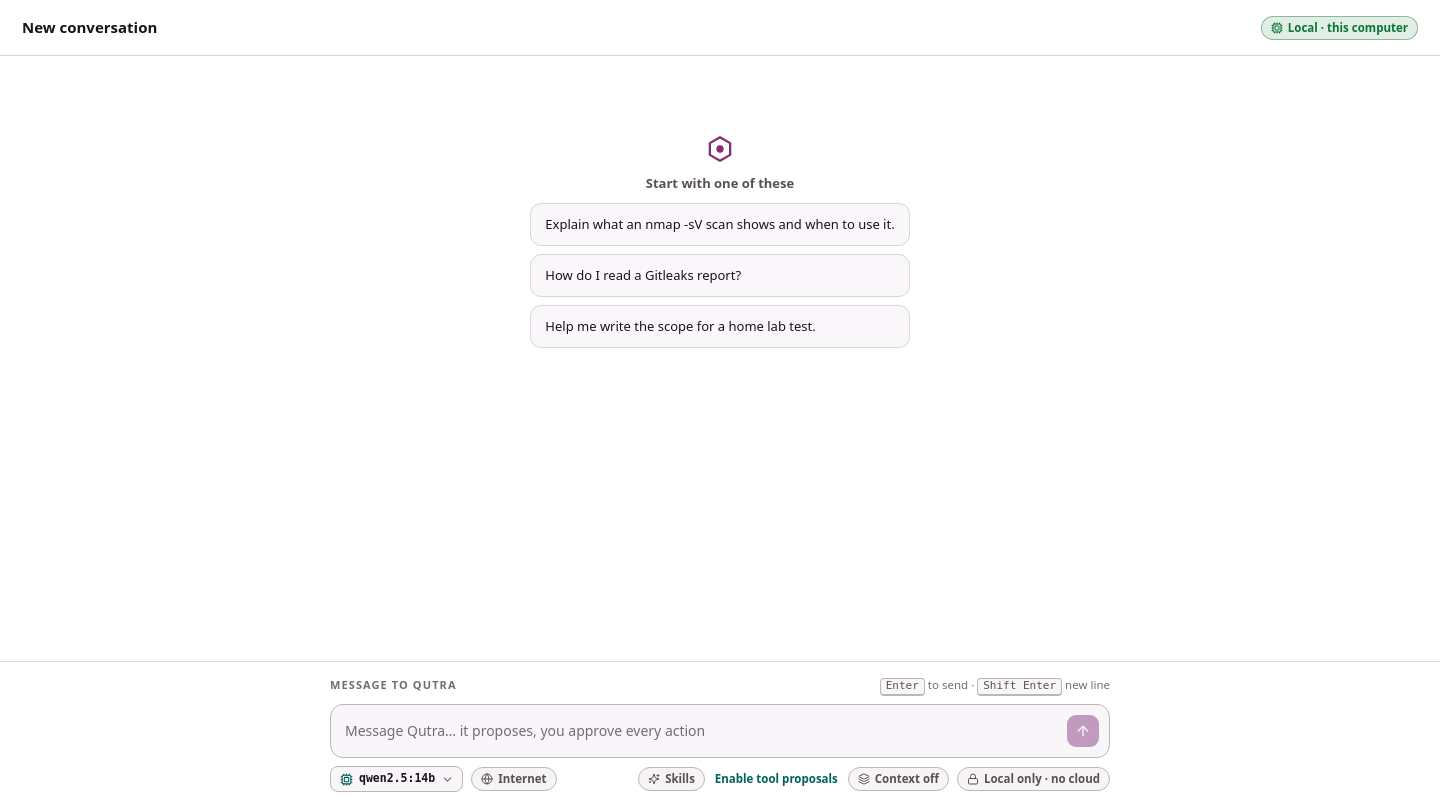
Scenario: a preserved partial answer stays distinguishable from a successful one › shows no error banner at all when the turn simply completes
Type "hi" into the text box labelled "Message to Qutra" at (702, 732), box x1=345 y1=718 x2=1059 y2=747
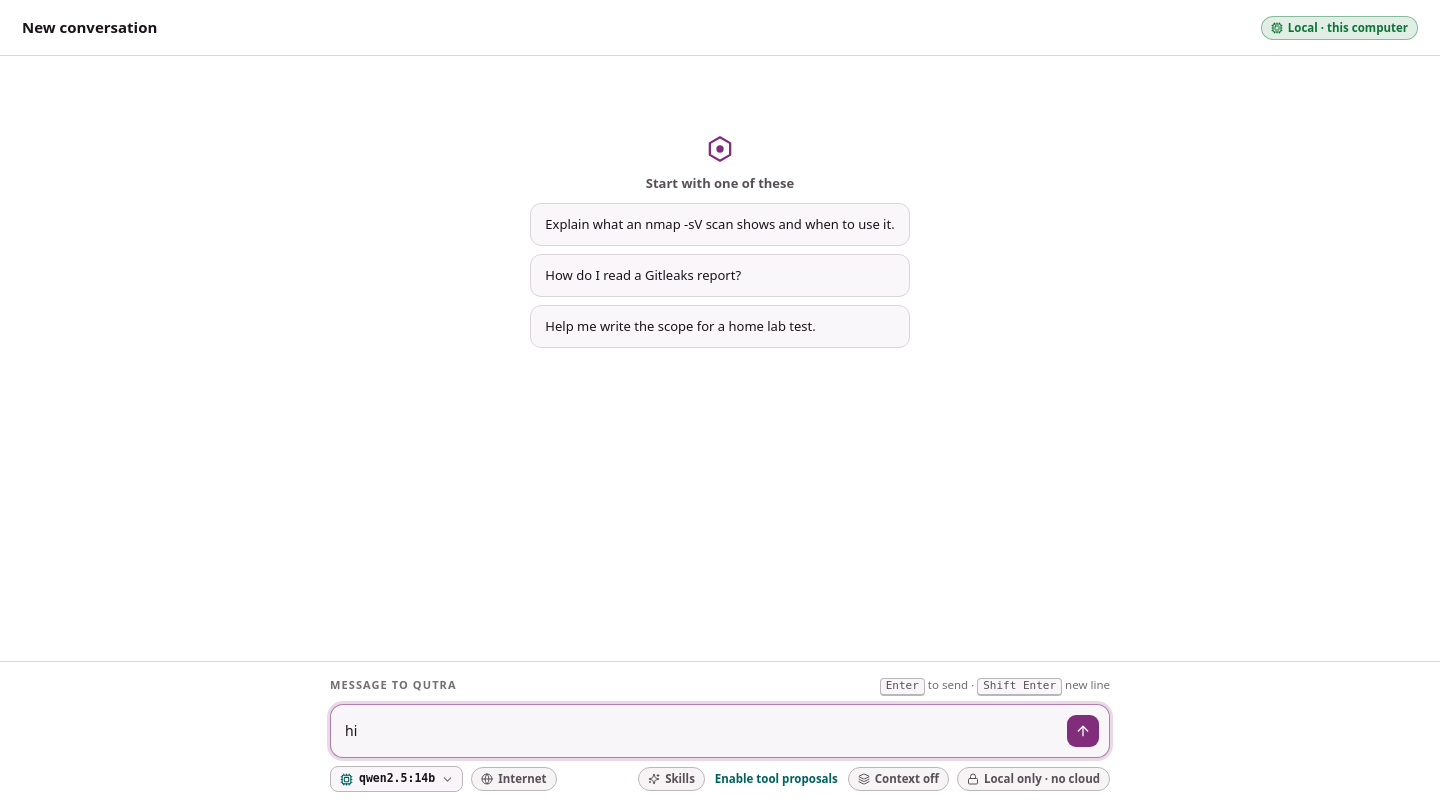
Click the button named "Send" at (1083, 731), box x1=1067 y1=715 x2=1099 y2=747
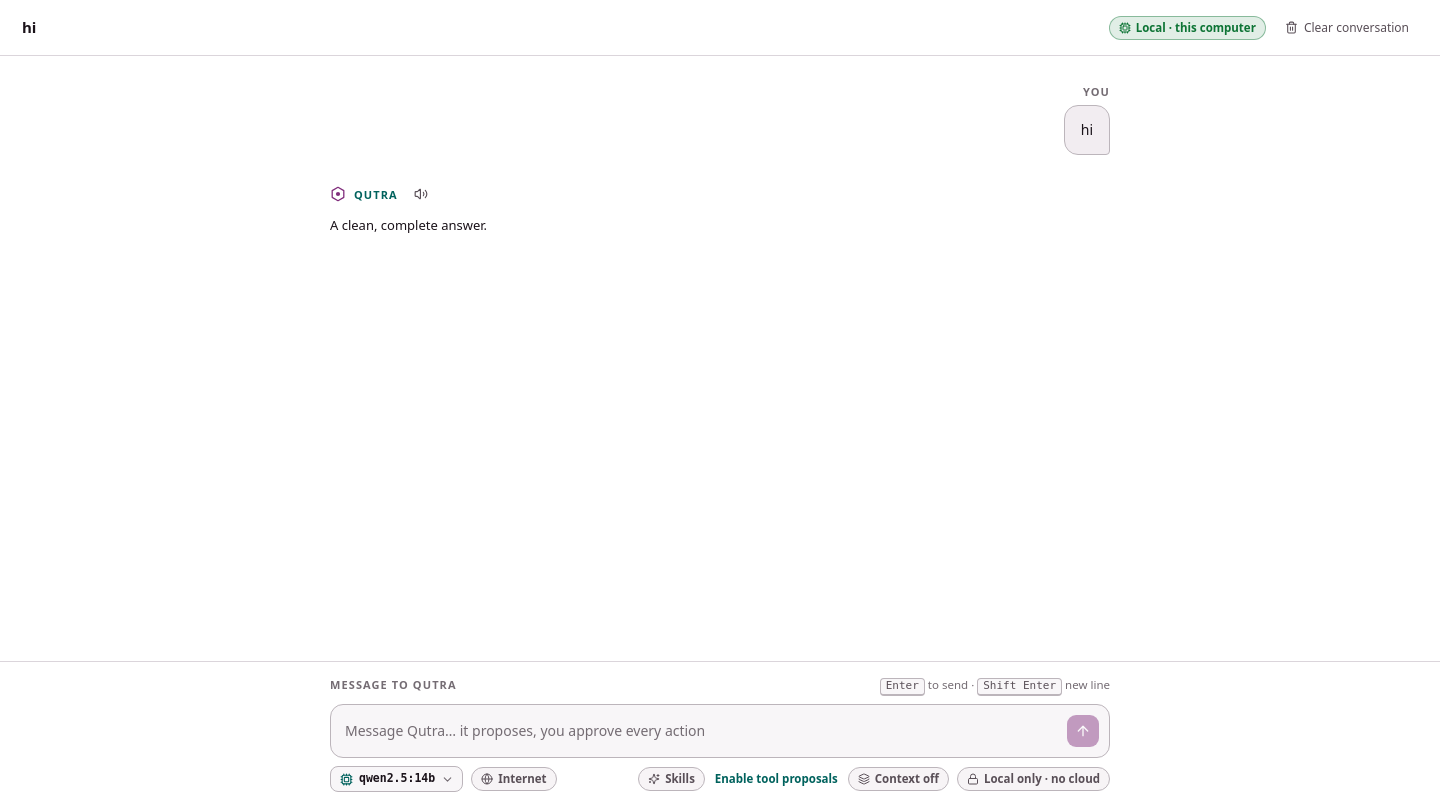
Check: the text "A clean, complete answer." is shown, box x1=330 y1=216 x2=487 y2=234
